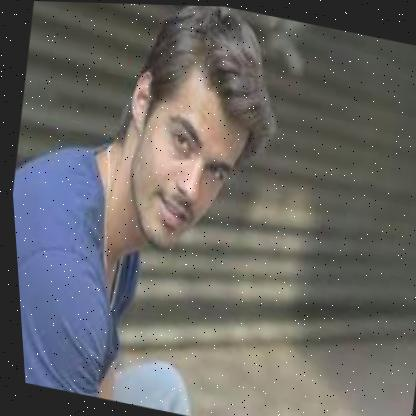person: (93, 3, 299, 268)
